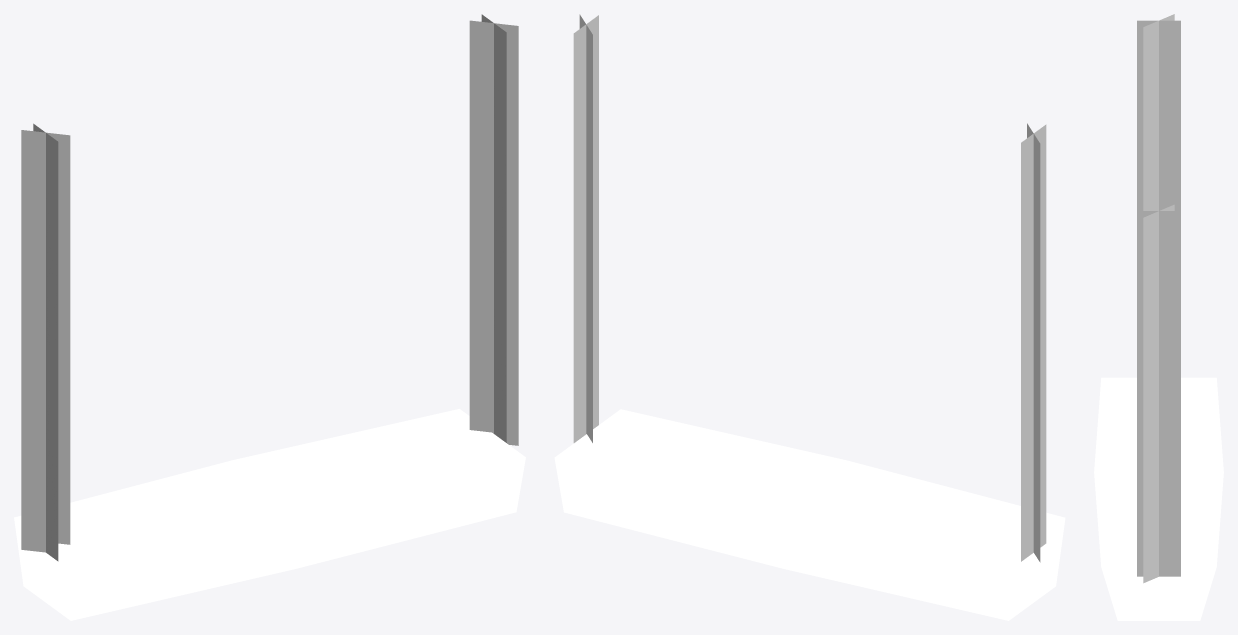
Rendered from lightPanel.glb.
3 renders of one model, left to right at view 1: azimuth 30°, elevation 25°; view 2: azimuth 150°, elevation 25°; view 3: azimuth 270°, elevation 25°, orthographic. The views are drawn at different scales.
Parts seen in each view (by area): view 1: light_Panel; view 2: light_Panel; view 3: light_Panel.
Part boxes in pixels (x1,y1,x2,y2): light_Panel: (14,14,525,620); light_Panel: (554,14,1065,620); light_Panel: (1094,14,1223,620).
Size of the model in its own units: 1.7 by 1.6 by 0.459.
2 materials, 2 textured.
